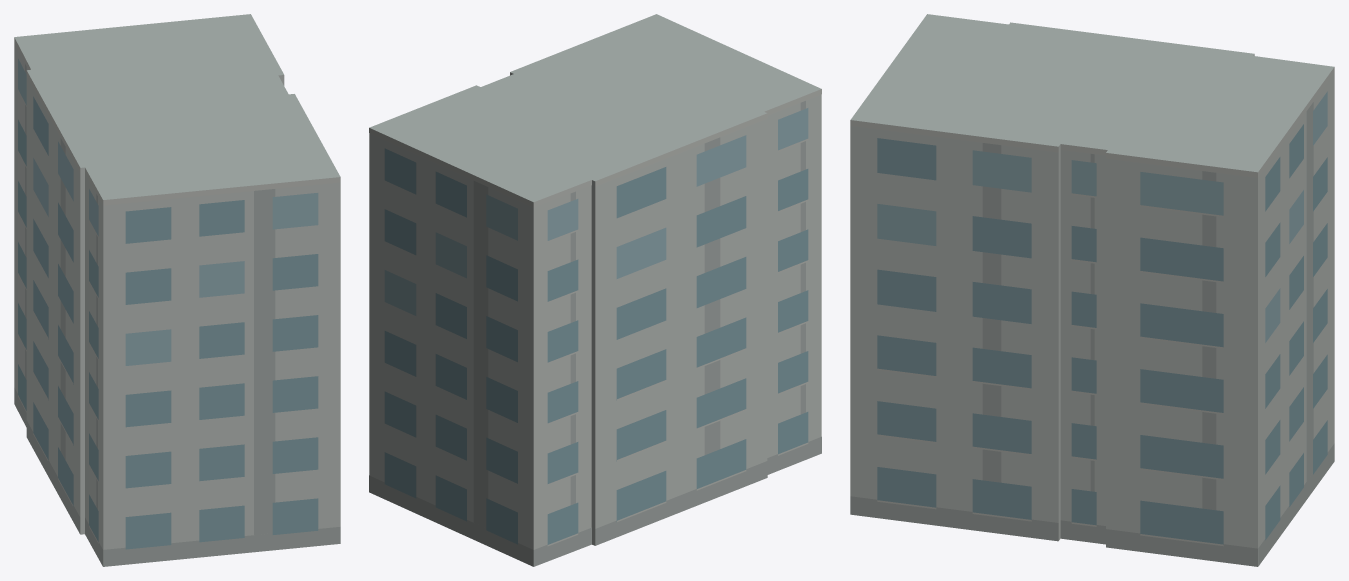
Rendered from survey-upis-32815734.glb.
3 renders of one model, left to right at view 1: azimuth 30°, elevation 25°; view 2: azimuth 150°, elevation 25°; view 3: azimuth 270°, elevation 25°, orthographic. The views are drawn at different scales.
Parts seen in each view (by area): view 1: survey-upis-32815734.tmp; view 2: survey-upis-32815734.tmp; view 3: survey-upis-32815734.tmp.
Boxes of the visible parts, x1,y1,x2,y2 form: survey-upis-32815734.tmp: (14, 14, 340, 566); survey-upis-32815734.tmp: (369, 14, 821, 566); survey-upis-32815734.tmp: (850, 14, 1334, 566).
Bounding box in the file's own units: 14.08 × 16.35 × 18.19.
